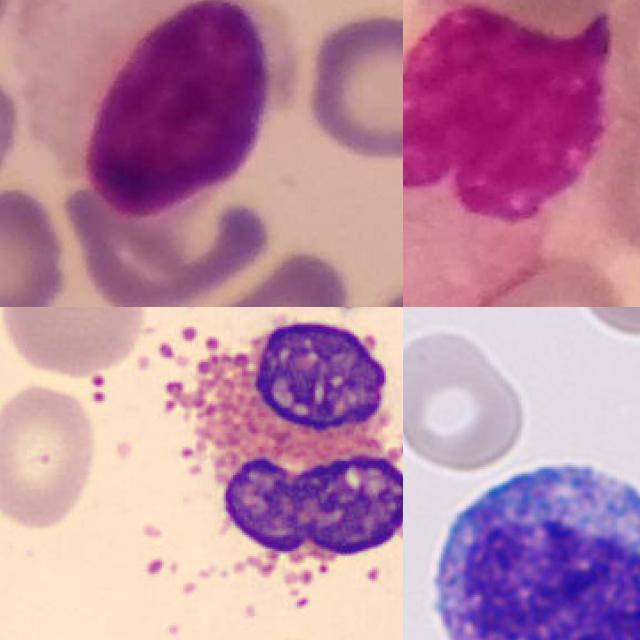Eosinophil: (144, 307, 403, 596)
Lymphocyte: (27, 0, 295, 225), (414, 444, 640, 640)
Monocyte: (403, 0, 607, 307)
RBC: (403, 321, 528, 472), (0, 378, 103, 535), (0, 307, 153, 379)
